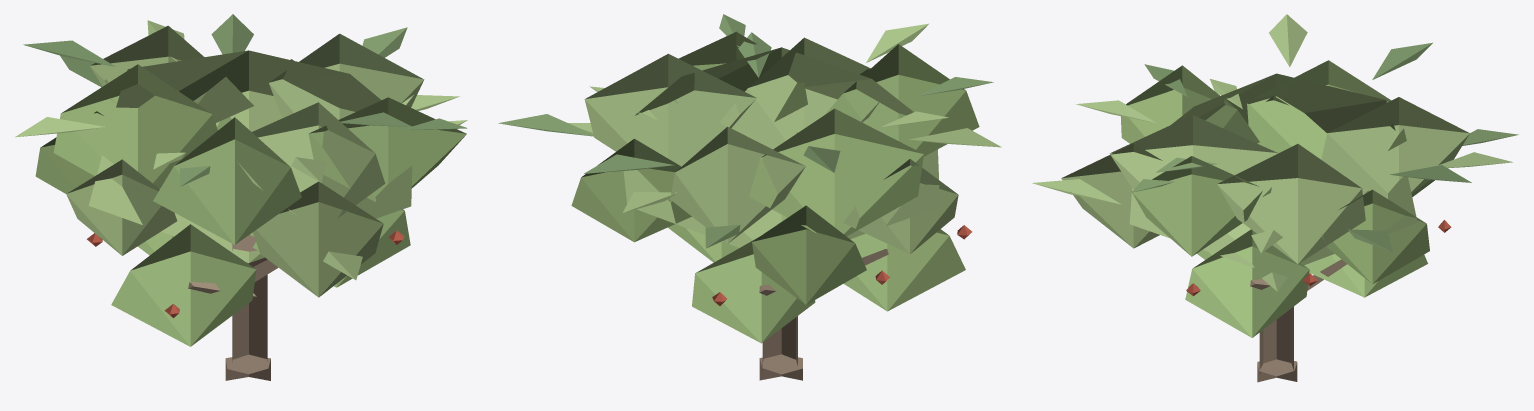
Rendered from shu.chuilui@fruiting__bloom.glb.
3 renders of one model, left to right at view 1: azimuth 30°, elevation 25°; view 2: azimuth 150°, elevation 25°; view 3: azimuth 270°, elevation 25°, orthographic. The views are drawn at different scales.
Visible parts, largest first — view 1: shu.chuilui@fruiting__bloom; view 2: shu.chuilui@fruiting__bloom; view 3: shu.chuilui@fruiting__bloom.
Part boxes in pixels (box(x1,y1,x2,y2)): shu.chuilui@fruiting__bloom: box(15, 14, 467, 380); shu.chuilui@fruiting__bloom: box(498, 14, 1001, 380); shu.chuilui@fruiting__bloom: box(1032, 14, 1518, 382).
Bounding box in the file's own units: 15.32 × 10.49 × 15.84.
